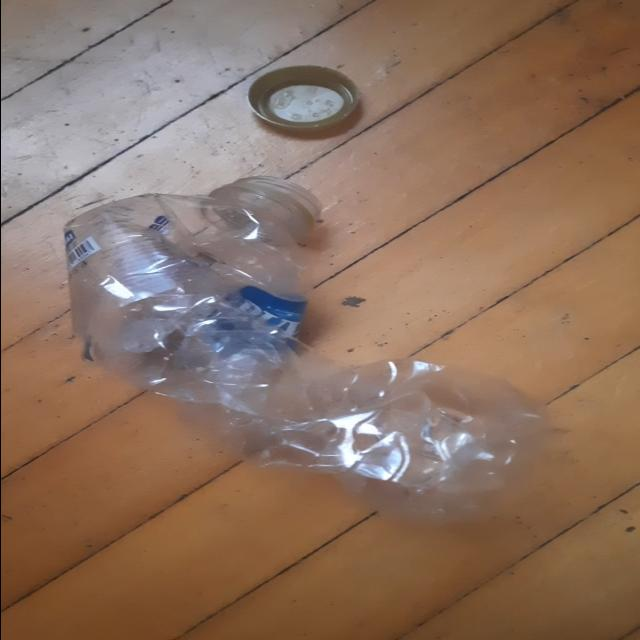Plastic: (61, 186, 552, 520)
